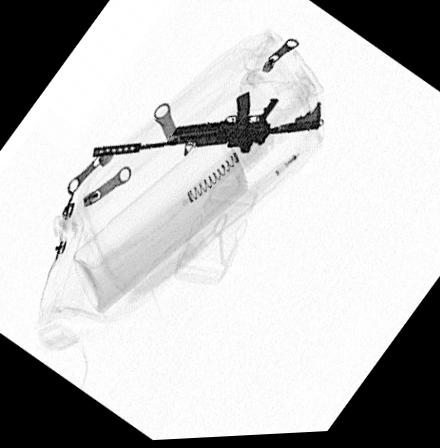Gun: (91, 93, 320, 160)
